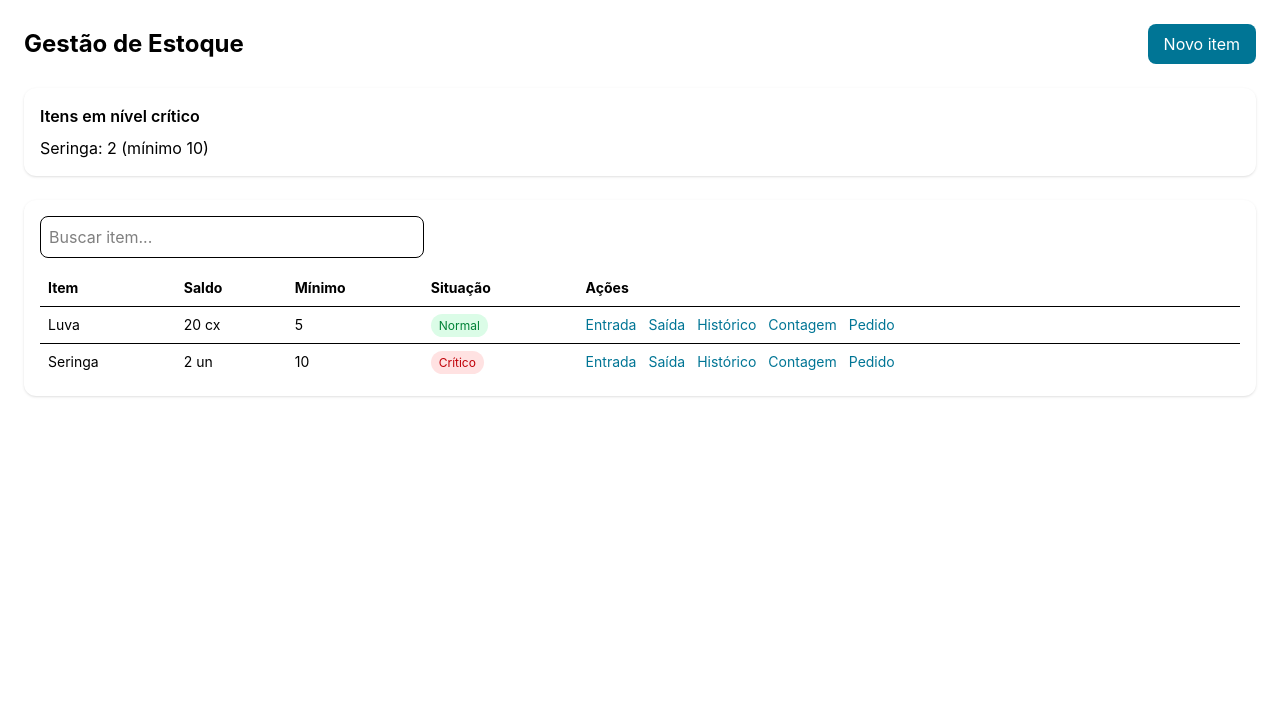
it: Página de Estoque › FE-25 abre o histórico de movimentações do item
The width and height of the screenshot is (1280, 720).
What coordinates should you click on to do the following:
click the button with aria-label "Histórico de Luva"
I would click on:
 (727, 325)
Its box is [697, 315, 756, 335].
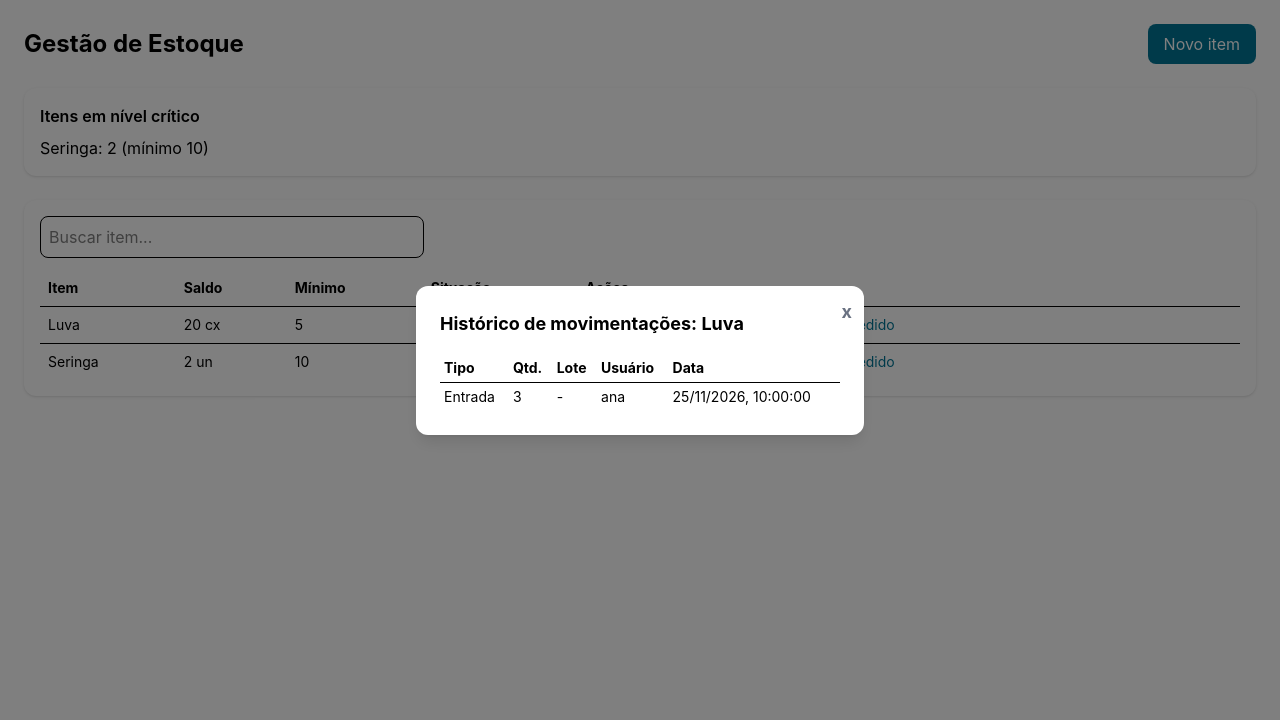
Expected: the table named "Histórico de movimentações" shows "Entrada", [444, 388, 495, 404]
